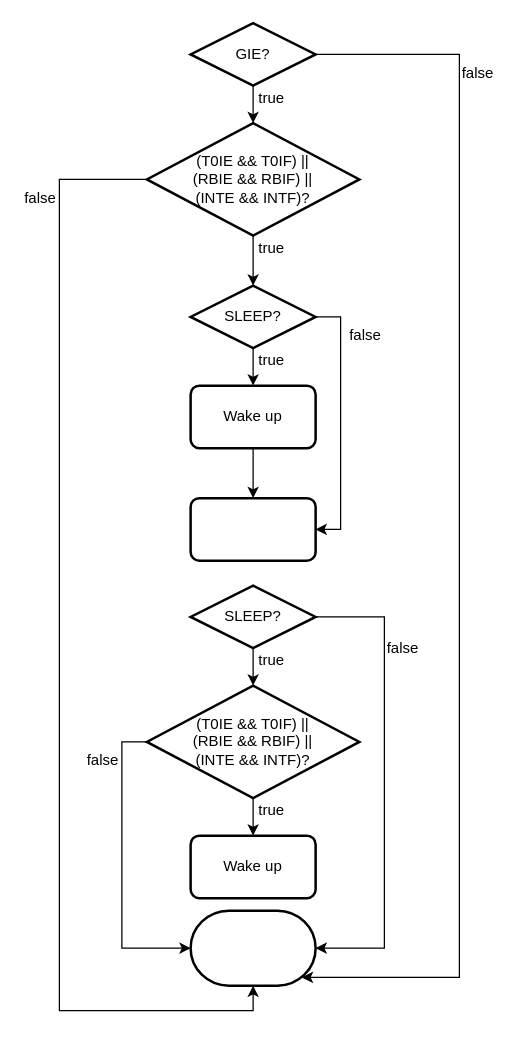
The diagram is 518 pixels wide and 1043 high, and some of its shapes have lost their labels. Each missing label, with the centre of its shape:
"END" goes at point (252, 947).
"Jump to ISR" goes at point (252, 528).
